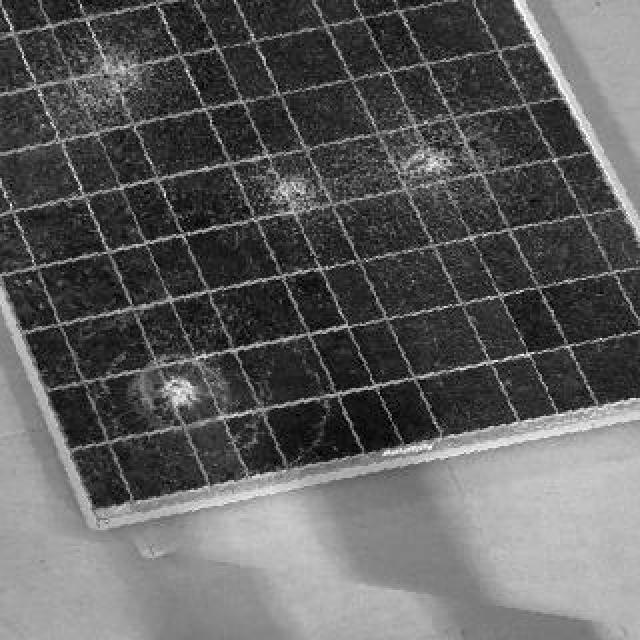Physical-damage: (152, 370, 206, 419), (88, 47, 140, 97), (406, 145, 459, 193), (266, 172, 320, 217)
